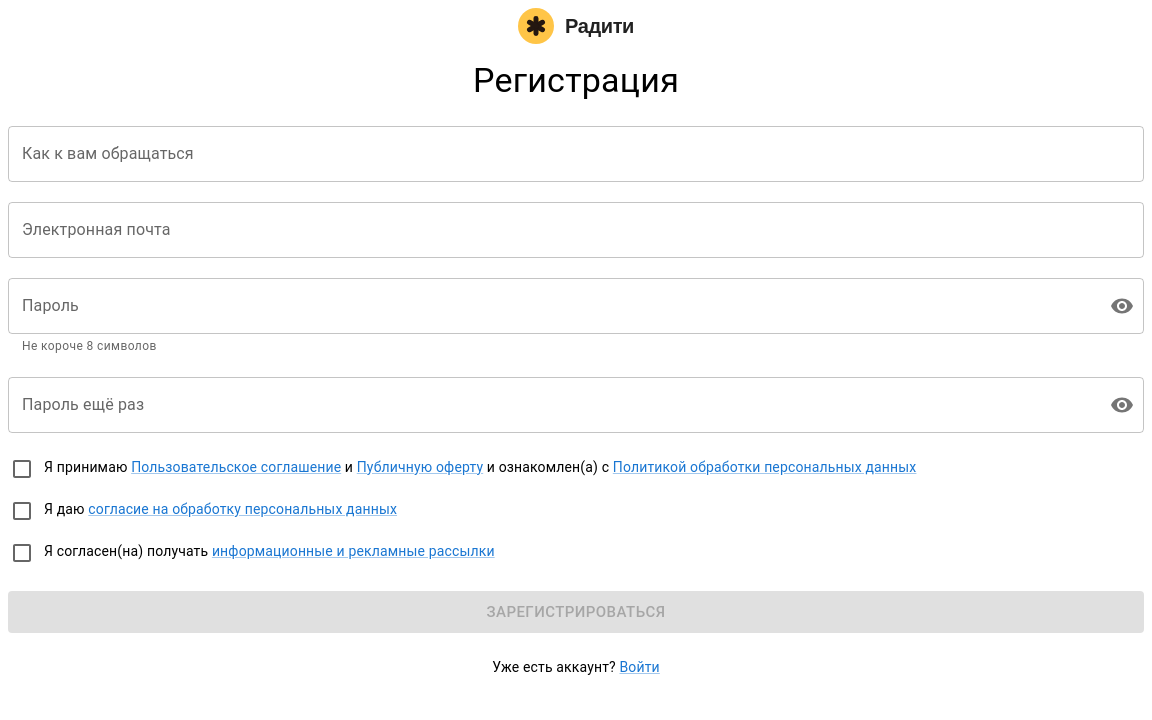
Test: RegisterForm › blocks submit until both required consents are given
The width and height of the screenshot is (1152, 720).
Type "Анна" into the field labelled "Как к вам обращаться".
click(576, 154); type("Анна")  # box [8, 126, 1144, 182]
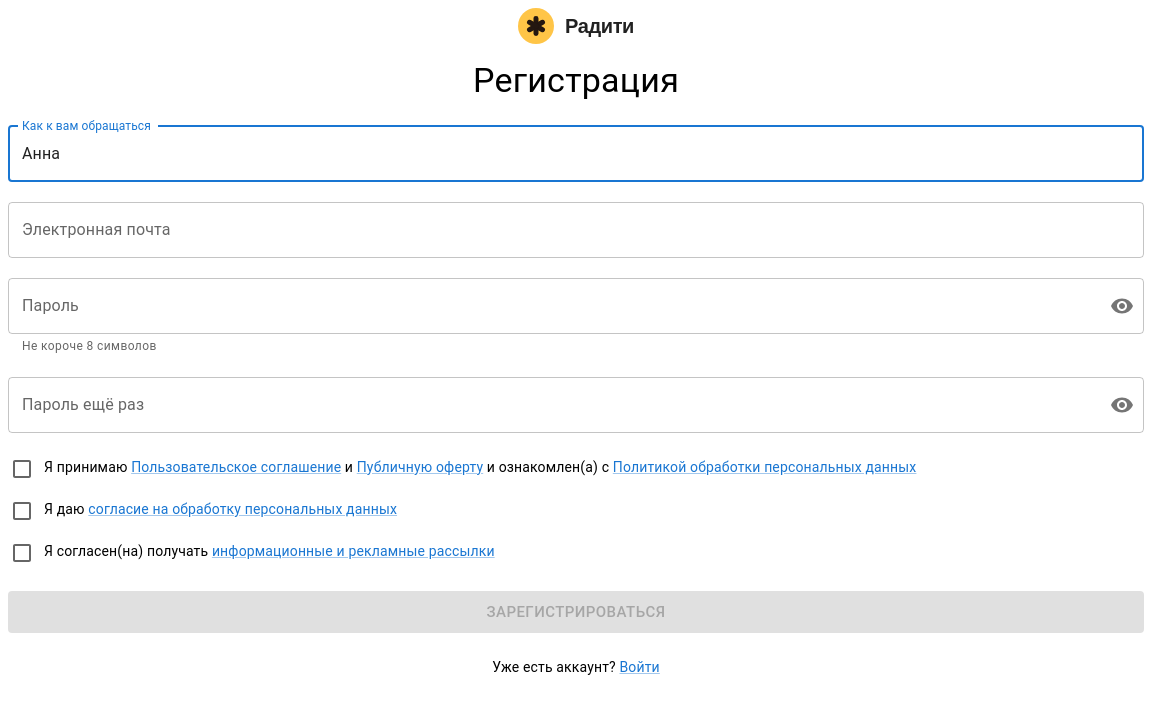
Type " anna@example.ru " into the field labelled "Электронная почта".
click(576, 230); type(" anna@example.ru ")  # box [8, 202, 1144, 258]
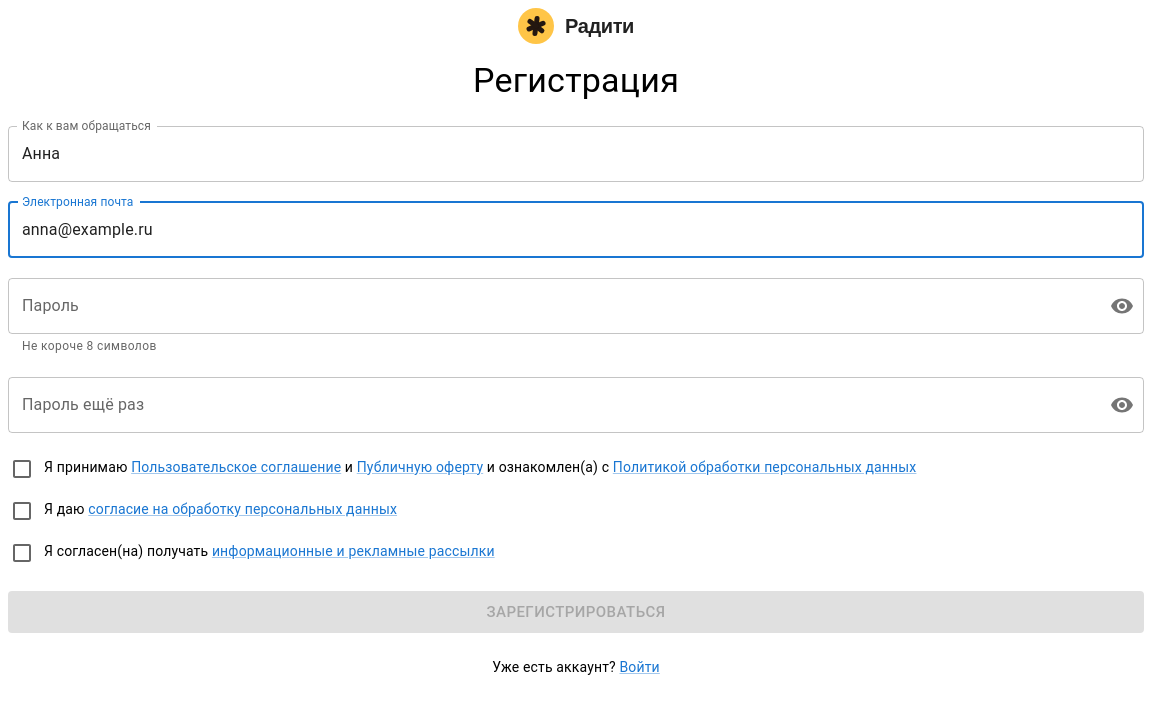
Type "secret-pass" into the password field labelled "Пароль".
click(551, 306); type("secret-pass")  # box [8, 278, 1094, 334]
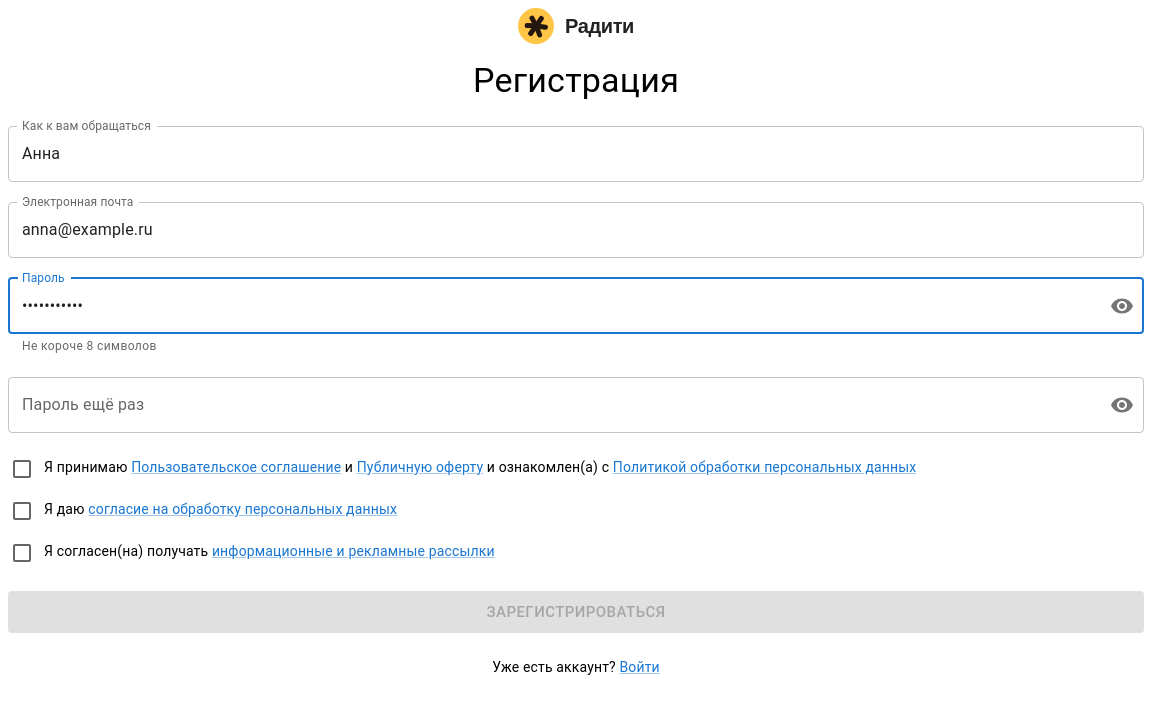
Type "secret-pass" into the password field labelled "Пароль ещё раз".
click(551, 405); type("secret-pass")  # box [8, 377, 1094, 433]
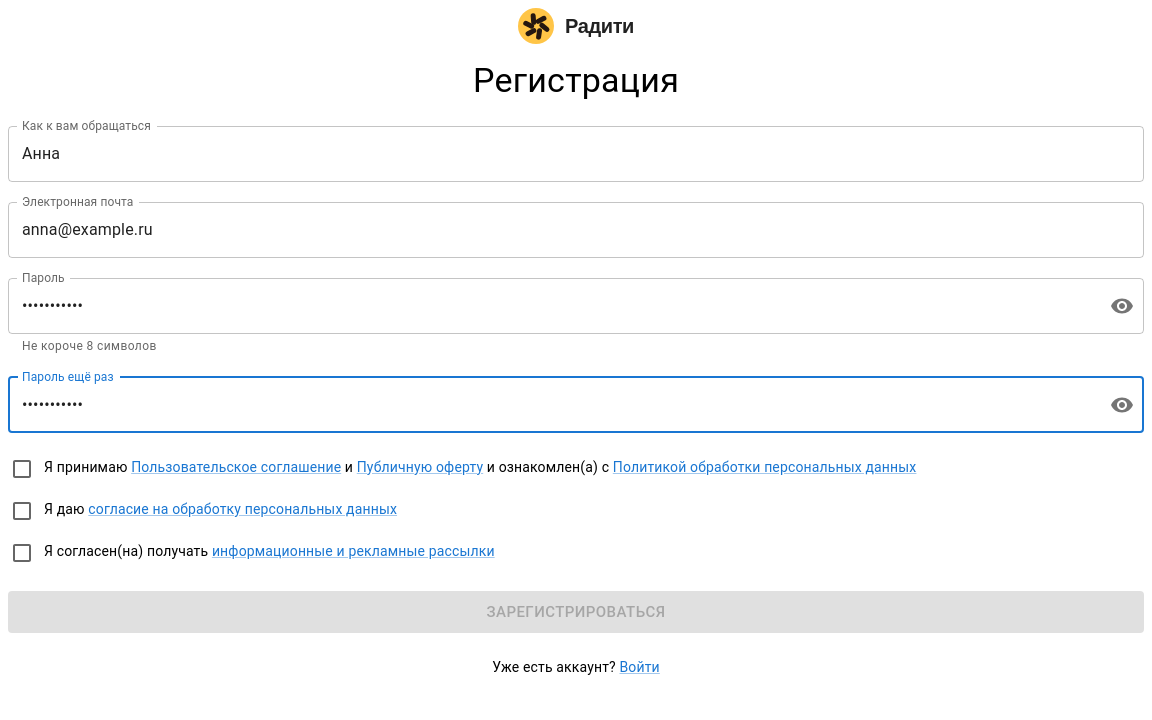
Expected: the button "Зарегистрироваться" is disabled, [8, 591, 1144, 633]
Submit the form
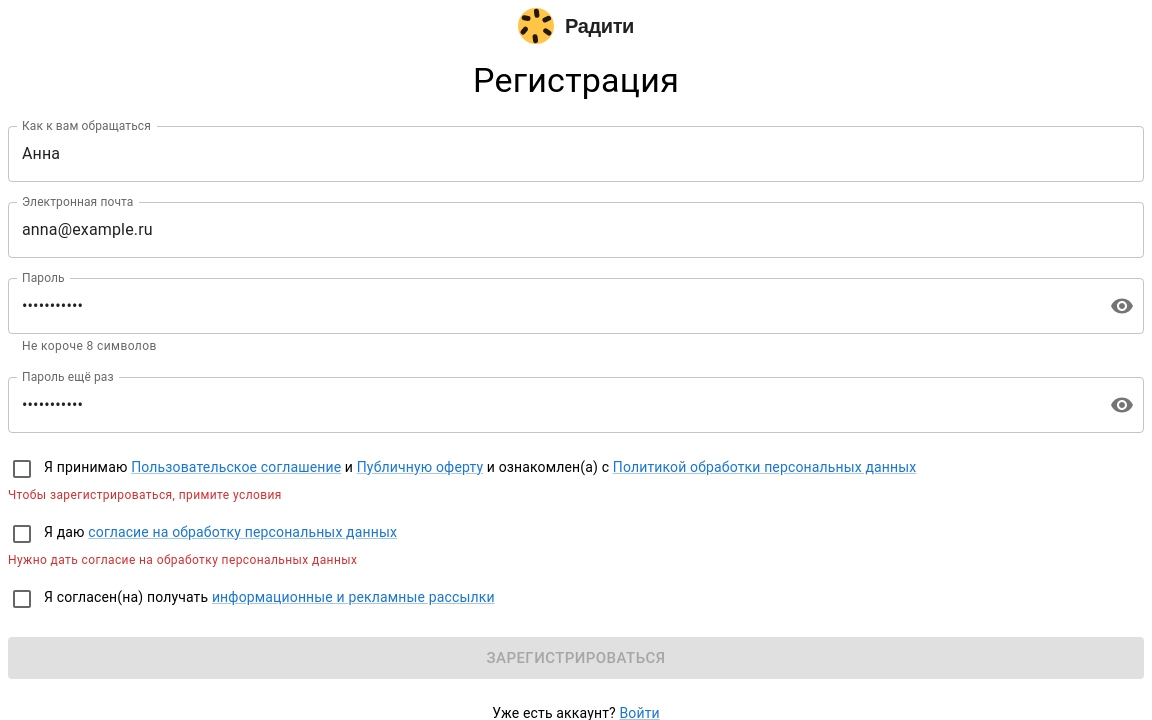
Expected: the text "Чтобы зарегистрироваться, примите условия" is shown, [8, 488, 282, 502]
Expected: the text "Нужно дать согласие на обработку персональных данных" is shown, [8, 553, 357, 567]
